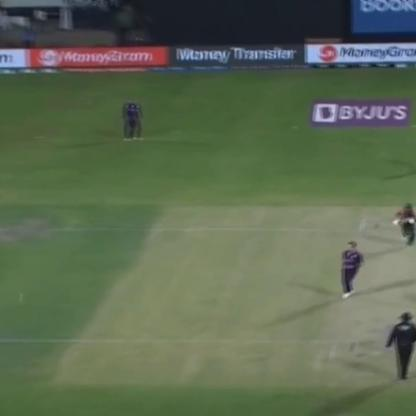ball: (14, 292, 28, 304)
pitch: (328, 195, 414, 401)
